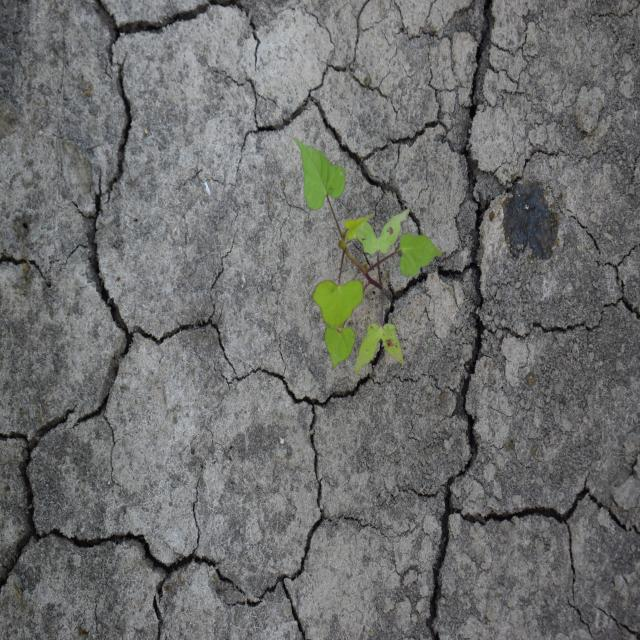MorningGlory: (292, 136, 444, 377)
